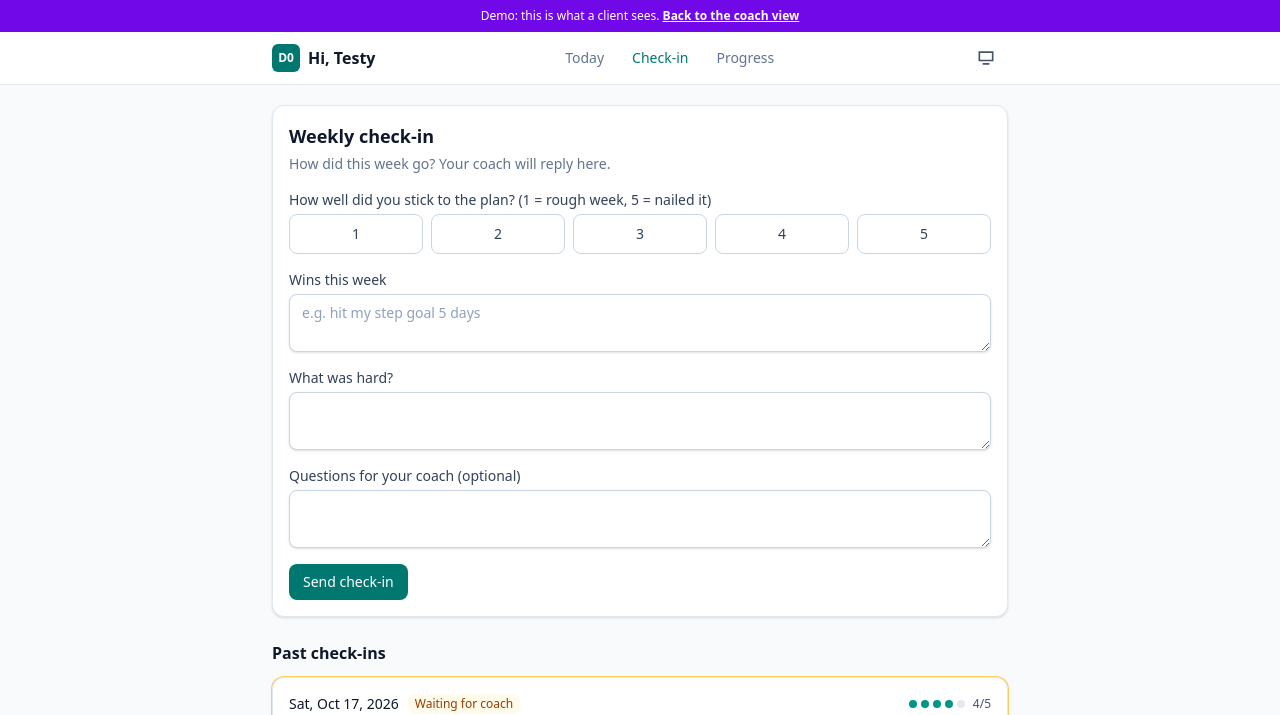
Scenario: weekly check-in flow (demo) › asks for a rating before sending
What coordinates should you click on to do the following:
click the button "Send check-in"
I would click on:
 (348, 582)
Its box is [289,564,408,600].
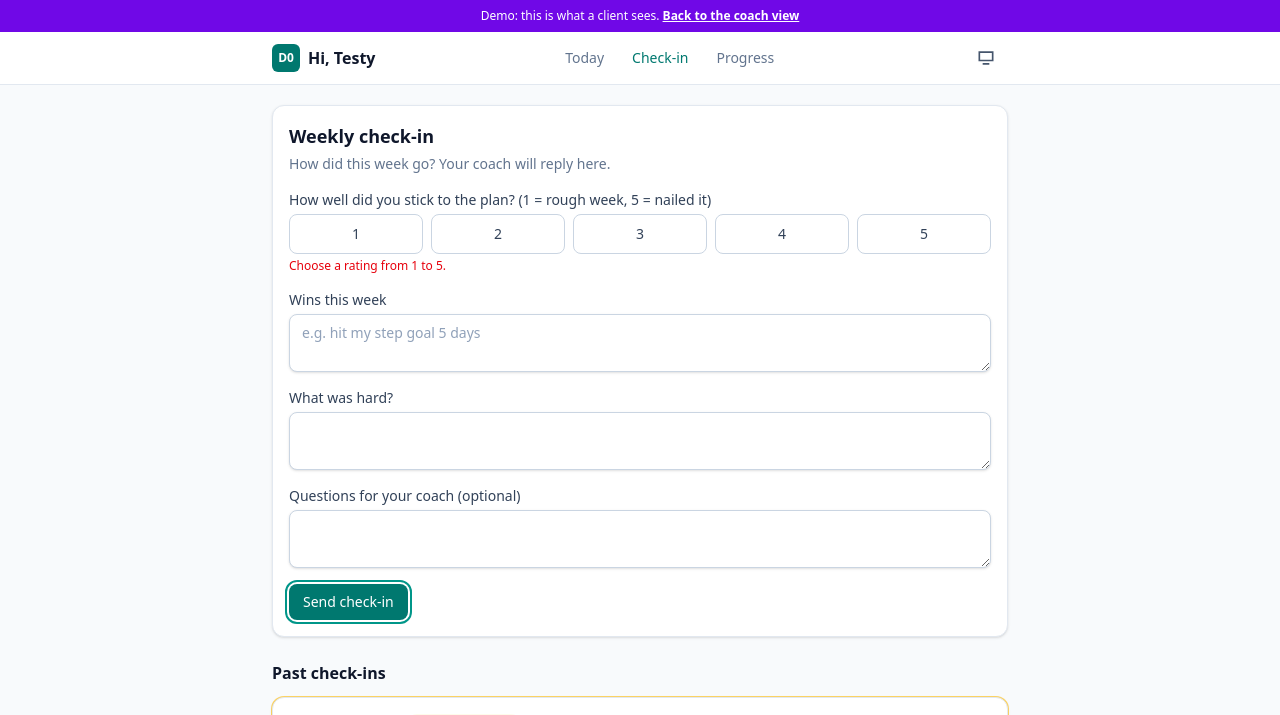
Now the text "Choose a rating from 1 to 5." is shown, box [289,257,446,274]
